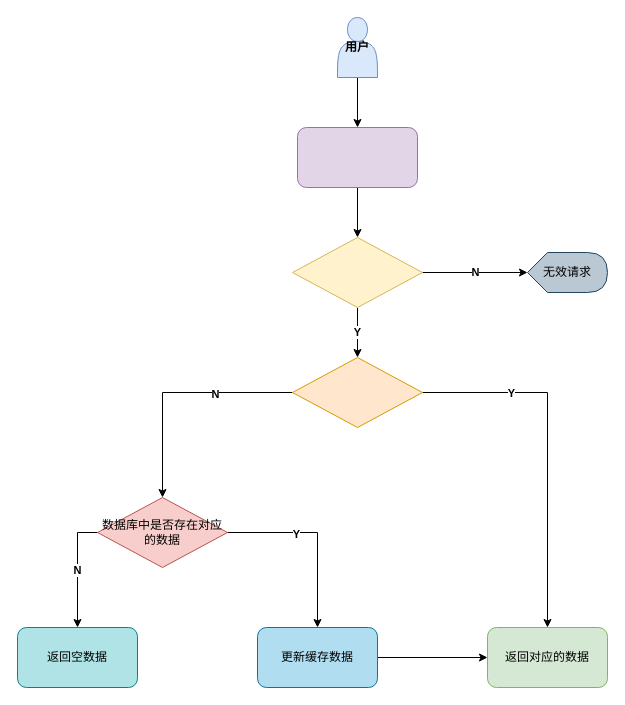
Some shapes in this 625 by 705 pixel diagram are drawn without their labels. The box of each missing label's shape, as (x1, y1, x2, y2) in pixels:
用户请求: (296, 126, 418, 188)
缓存中是否存在对应的数据: (292, 356, 422, 428)
请求值是否存在于布隆过滤器: (292, 236, 422, 308)
